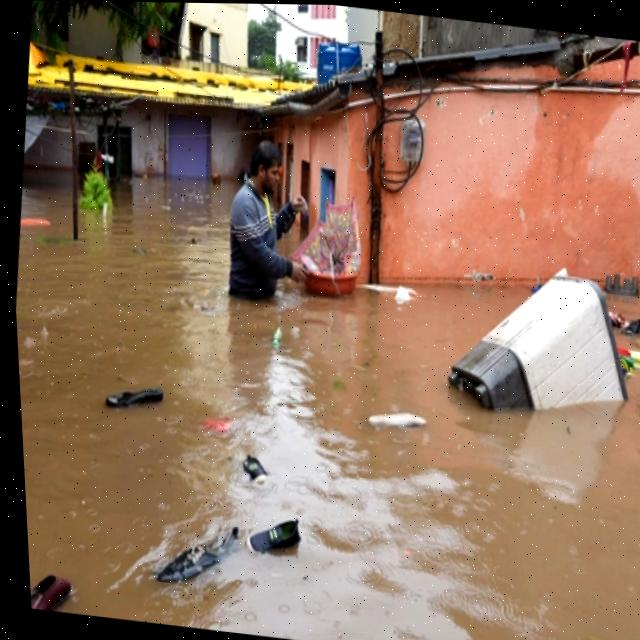civilian: (210, 123, 323, 309)
